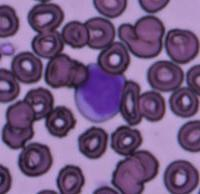L: (74, 61, 125, 122)
